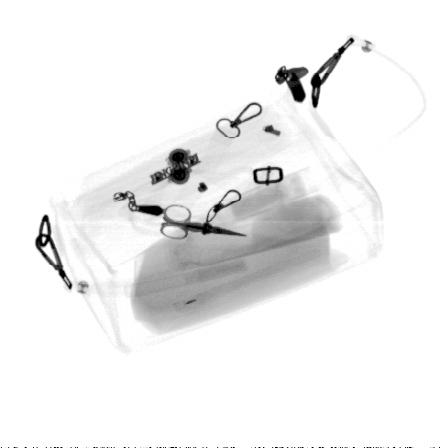Scissors: (158, 203, 252, 240)
